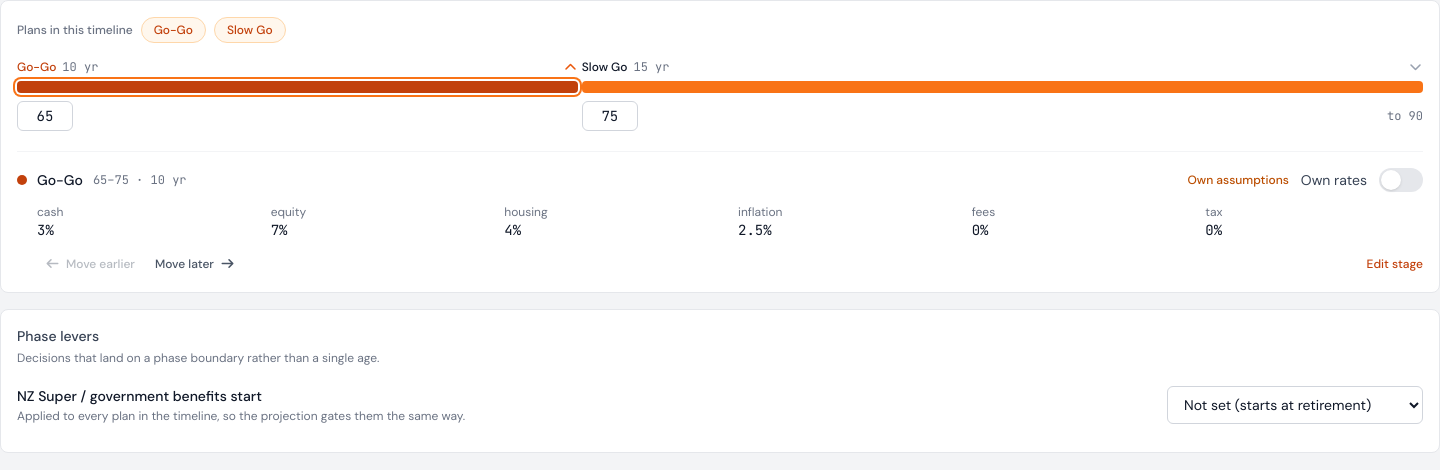
Scenario: PhasesTab › switches the drawer to the stage that was pressed
This screenshot has width=1440, height=470.
Click the button "Slow Go 15 yr" at [605, 67], box [582,59,1423,93]
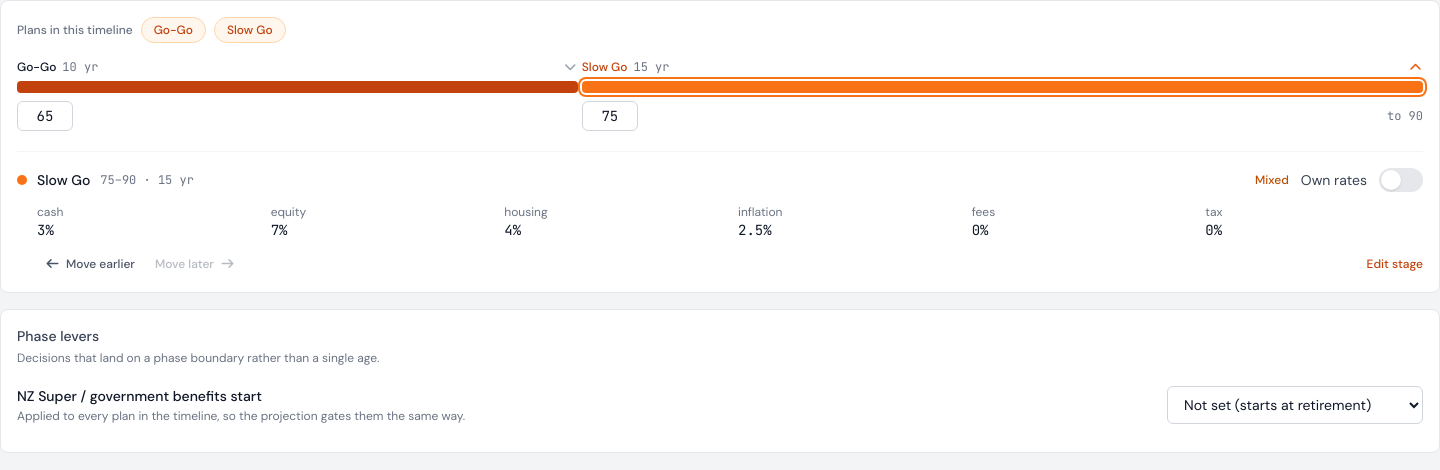
Check: the element named "Slow Go stage" is shown, box [17,151,1423,276]
Check: the text "Mixed" is shown, box [1255,172,1289,188]
